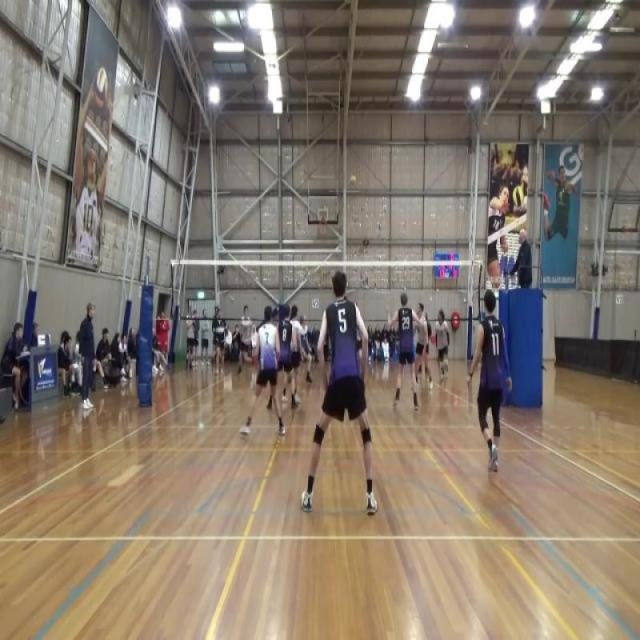volleyball: (93, 65, 108, 110), (512, 186, 524, 207), (350, 174, 357, 187)
